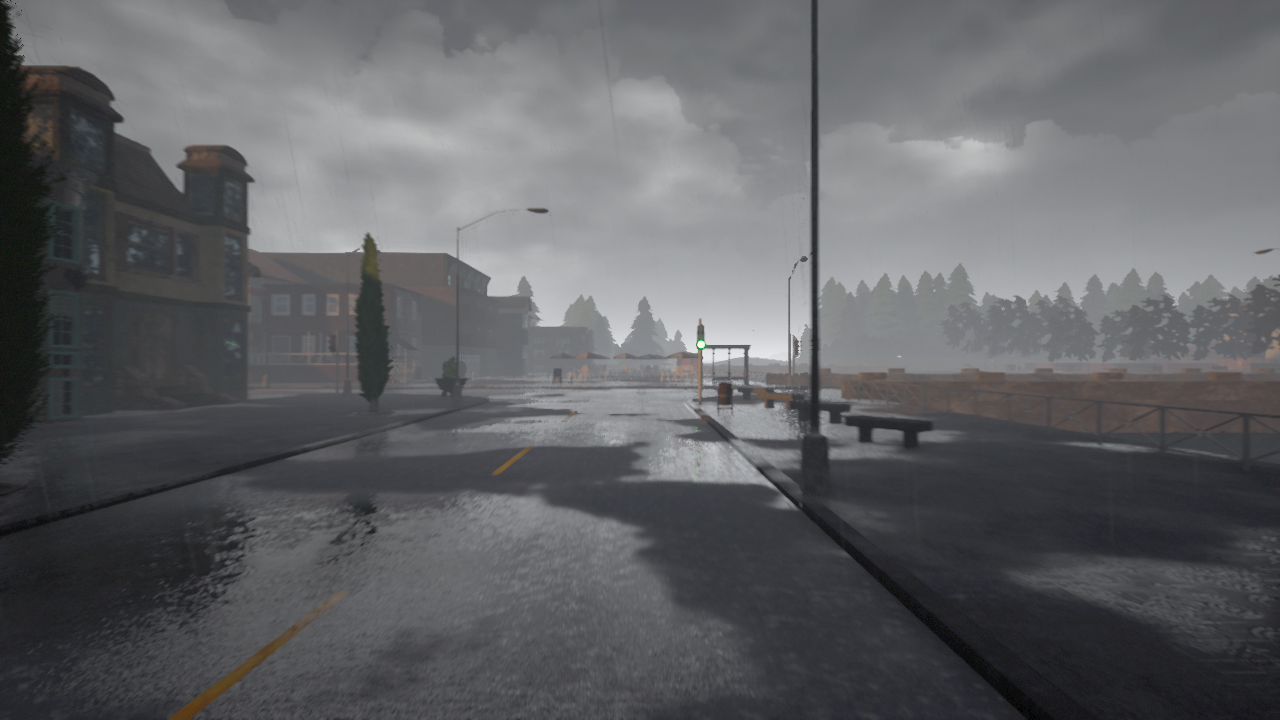green: (696, 325, 707, 350)
